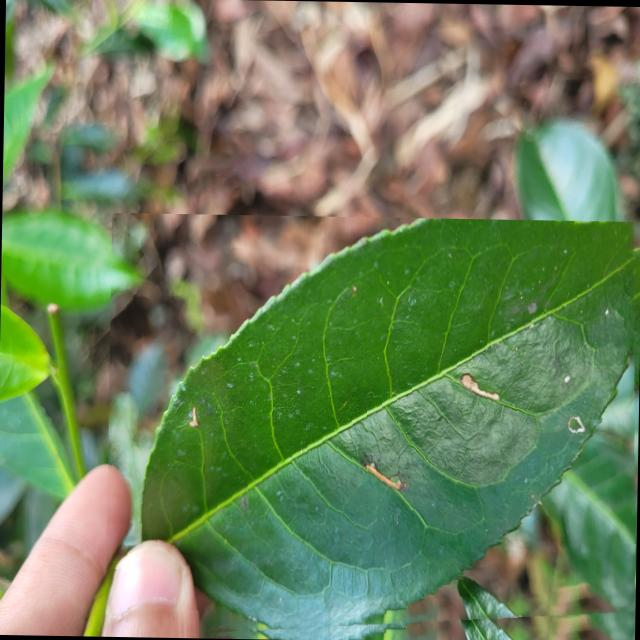Category D(7+ days, Not for Tea): (104, 211, 640, 640)
